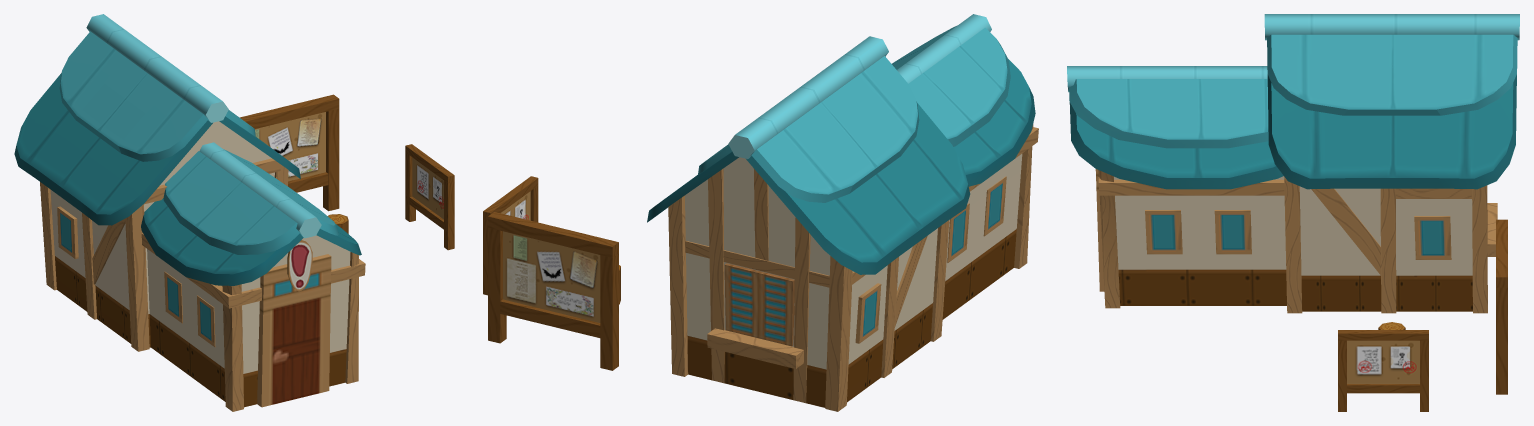
Rendered from building_Commissioner_lv2.FBX.
3 renders of one model, left to right at view 1: azimuth 30°, elevation 25°; view 2: azimuth 150°, elevation 25°; view 3: azimuth 270°, elevation 25°, orthographic. The views are drawn at different scales.
Parts seen in each view (by area): view 1: building_Commissioner_main_lv2, building_Commissioner_lv2, building_Commissioner_etc_lv2; view 2: building_Commissioner_main_lv2, building_Commissioner_lv2, building_Commissioner_etc_lv2; view 3: building_Commissioner_main_lv2, building_Commissioner_lv2, building_Commissioner_etc_lv2.
Part boxes in pixels (<box>): building_Commissioner_main_lv2: <box>14,14,361,407</box>; building_Commissioner_lv2: <box>40,158,365,411</box>; building_Commissioner_etc_lv2: <box>240,94,454,250</box>; building_Commissioner_main_lv2: <box>647,14,1035,407</box>; building_Commissioner_lv2: <box>668,124,1038,411</box>; building_Commissioner_etc_lv2: <box>483,176,620,370</box>; building_Commissioner_main_lv2: <box>1067,14,1519,311</box>; building_Commissioner_lv2: <box>1095,169,1497,313</box>; building_Commissioner_etc_lv2: <box>1338,219,1507,411</box>.
Size of the model in its own units: 461 by 286 by 456.
